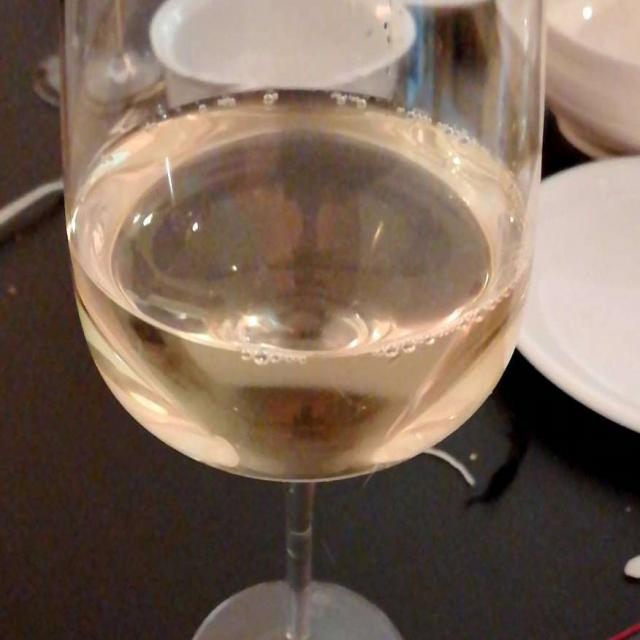wine: (87, 111, 510, 466)
